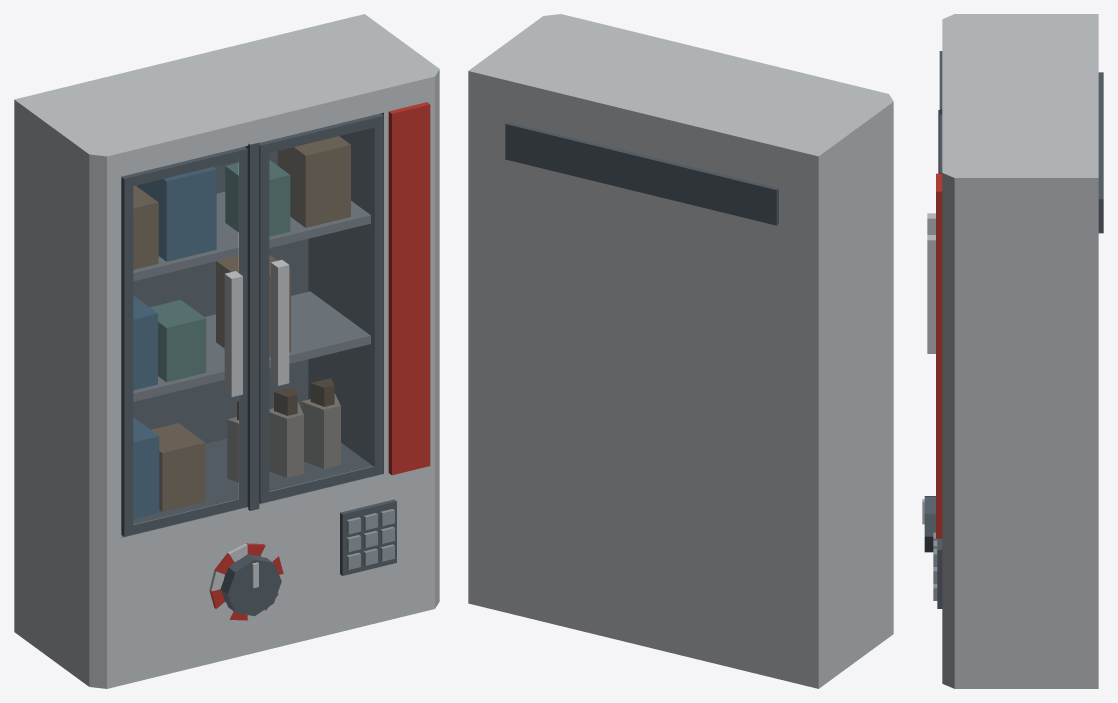
Rendered from medicine-cabinet-a9f13d.glb.
The picture shows the model from 3 angles, left to right: view 1: azimuth 30°, elevation 25°; view 2: azimuth 150°, elevation 25°; view 3: azimuth 270°, elevation 25°; orthographic projection. The views are drawn at different scales.
Parts seen in each view (by area): view 1: medicine-cabinet, contents, door-l-glass, door-r-glass, door-l, door-r; view 2: medicine-cabinet; view 3: medicine-cabinet, door-r, door-l.
Boxes of the visible parts, <box> form: medicine-cabinet: <box>14,14,439,688</box>; contents: <box>133,136,350,518</box>; door-l-glass: <box>133,161,237,524</box>; door-r-glass: <box>269,127,373,490</box>; door-l: <box>121,146,247,536</box>; door-r: <box>259,113,383,503</box>; medicine-cabinet: <box>468,14,893,688</box>; medicine-cabinet: <box>922,14,1103,688</box>; door-r: <box>927,114,942,353</box>; door-l: <box>927,51,942,234</box>.
Size of the model in its own units: 0.62 by 0.9001 by 0.29.
